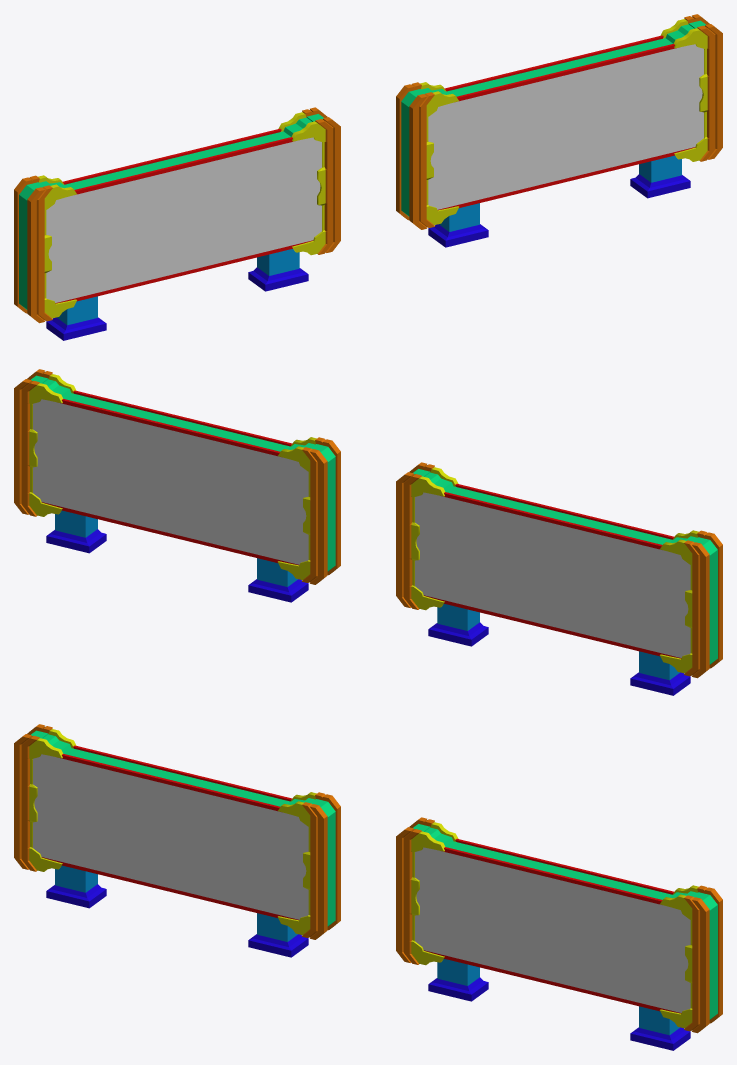
File: guidwall_a.fbx
The picture shows the model from 3 angles, top to bottom: view 1: azimuth 30°, elevation 25°; view 2: azimuth 150°, elevation 25°; view 3: azimuth 330°, elevation 25°; orthographic projection.
Visible parts, largest first — view 1: guidwall_Screen_002, guidwall_Screen_001, guidwall_a_001, guidwall_a_002; view 2: guidwall_Screen_002, guidwall_Screen_001, guidwall_a_001, guidwall_a_002; view 3: guidwall_Screen_001, guidwall_Screen_002, guidwall_a_002, guidwall_a_001.
Part boxes in pixels (left/top/right/bottom): guidwall_Screen_002: left=428, top=44, right=703, bottom=209; guidwall_Screen_001: left=46, top=137, right=321, bottom=302; guidwall_a_001: left=14, top=107, right=340, bottom=340; guidwall_a_002: left=396, top=14, right=722, bottom=247; guidwall_Screen_002: left=33, top=399, right=308, bottom=564; guidwall_Screen_001: left=415, top=492, right=690, bottom=657; guidwall_a_001: left=396, top=462, right=722, bottom=695; guidwall_a_002: left=14, top=369, right=340, bottom=602; guidwall_Screen_001: left=33, top=754, right=308, bottom=919; guidwall_Screen_002: left=415, top=847, right=690, bottom=1012; guidwall_a_002: left=396, top=817, right=722, bottom=1050; guidwall_a_001: left=14, top=724, right=340, bottom=957.
Size of the model in its own units: 823 by 35.3 by 177.
